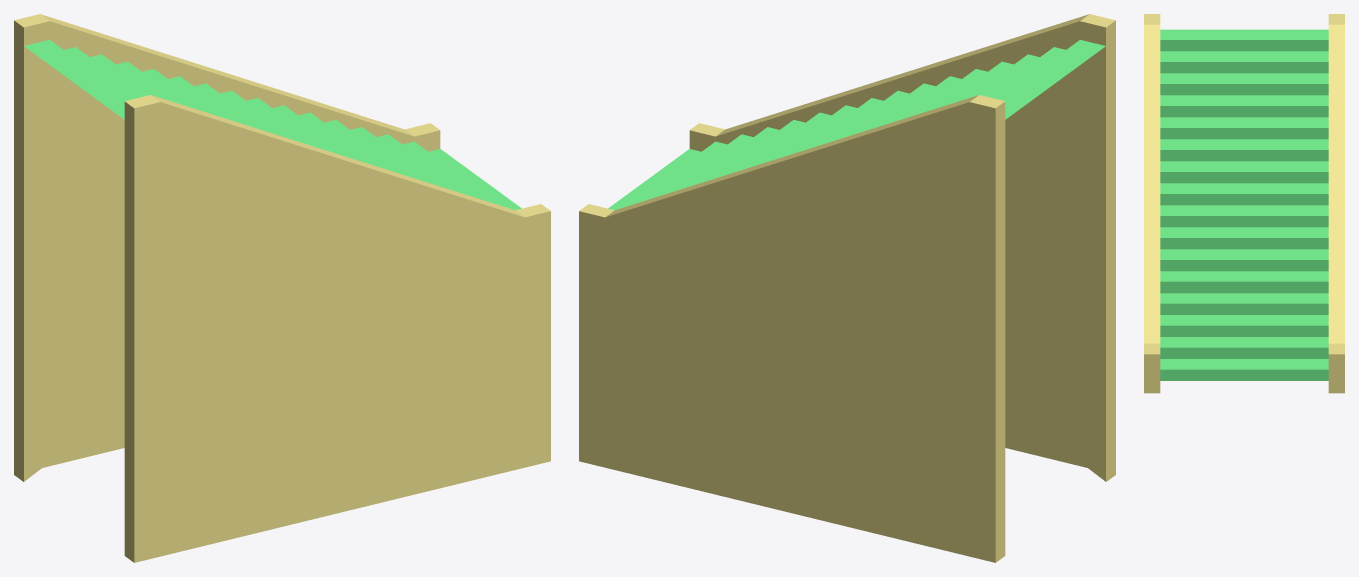
Rendered from stairs_upper.FBX.
3 views of the same model, side by side, from view 1: azimuth 30°, elevation 25°; view 2: azimuth 150°, elevation 25°; view 3: azimuth 270°, elevation 25° (orthographic). The views are drawn at different scales.
Parts seen in each view (by area): view 1: stairs_upper; view 2: stairs_upper; view 3: stairs_upper.
Boxes of the visible parts, <box> form: stairs_upper: <box>14,14,550,562</box>; stairs_upper: <box>579,14,1115,562</box>; stairs_upper: <box>1144,14,1344,393</box>.
Size of the model in its own units: 20 by 20.85 by 10.
